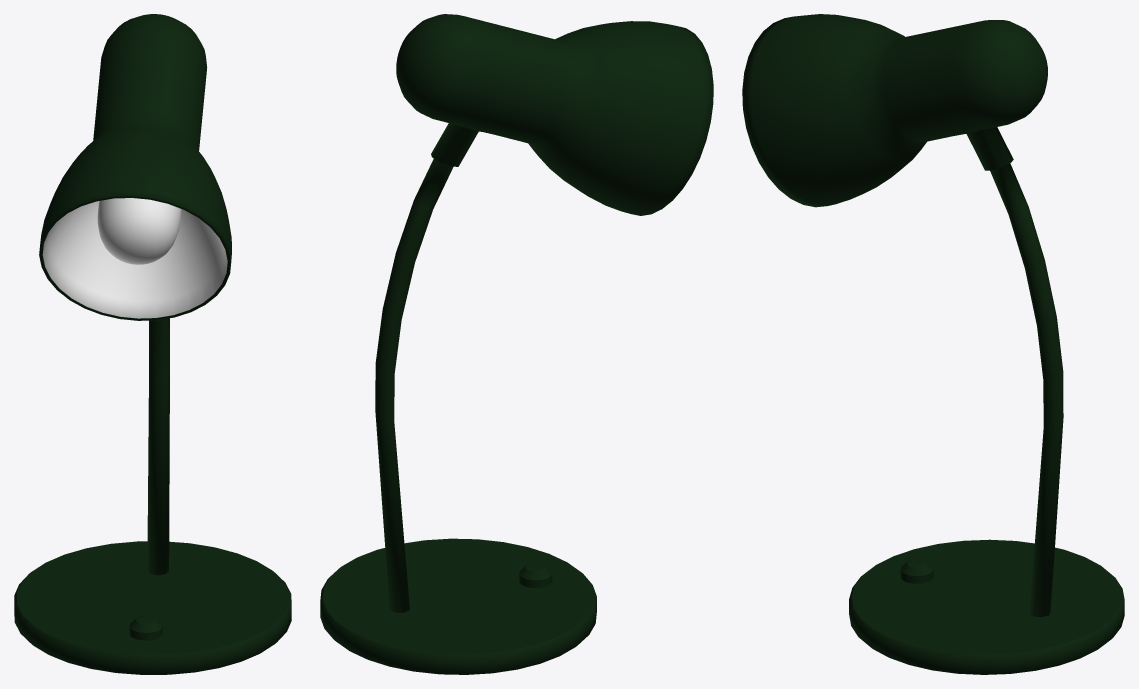
File: desk-lamp.fbx
3 renders of one model, left to right at view 1: azimuth 30°, elevation 25°; view 2: azimuth 150°, elevation 25°; view 3: azimuth 270°, elevation 25°, orthographic.
Visible parts, largest first — view 1: lamp, stand; view 2: lamp, stand; view 3: lamp, stand.
Part boxes in pixels (bbox=[...]): lamp: bbox=[39, 14, 231, 575]; stand: bbox=[14, 541, 291, 674]; lamp: bbox=[375, 14, 713, 612]; stand: bbox=[320, 538, 596, 674]; lamp: bbox=[742, 14, 1063, 617]; stand: bbox=[849, 539, 1124, 674].
Bounding box in the file's own units: 134 × 254 × 148.
